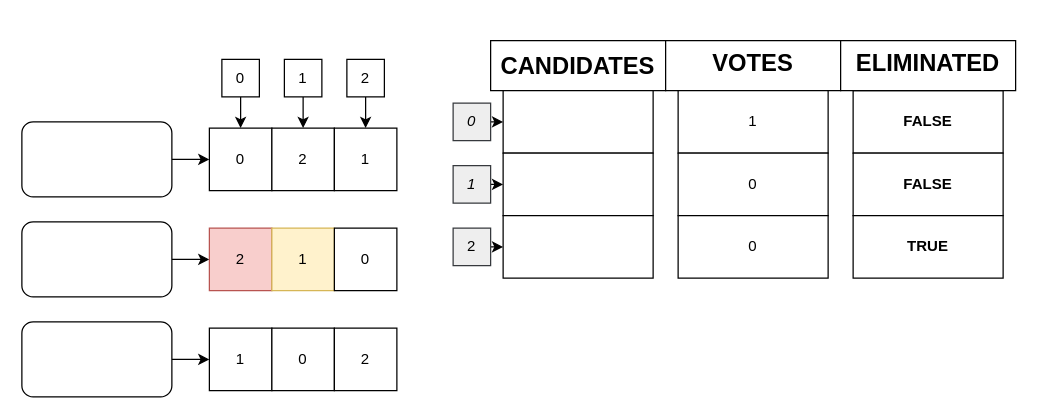
Some shapes in this 1038 by 419 pixel diagram are drawn without their labels. Here are the shapes that lost their labels. From the top down, the centre of each, then its label:
At [577,121]: "LUIZ".
At [96,159]: "VOTER - 0".
At [577,184]: "PEDRO".
At [96,259]: "VOTER - 1".
At [577,246]: "LUCAS".
At [96,359]: "VOTER - 2".
